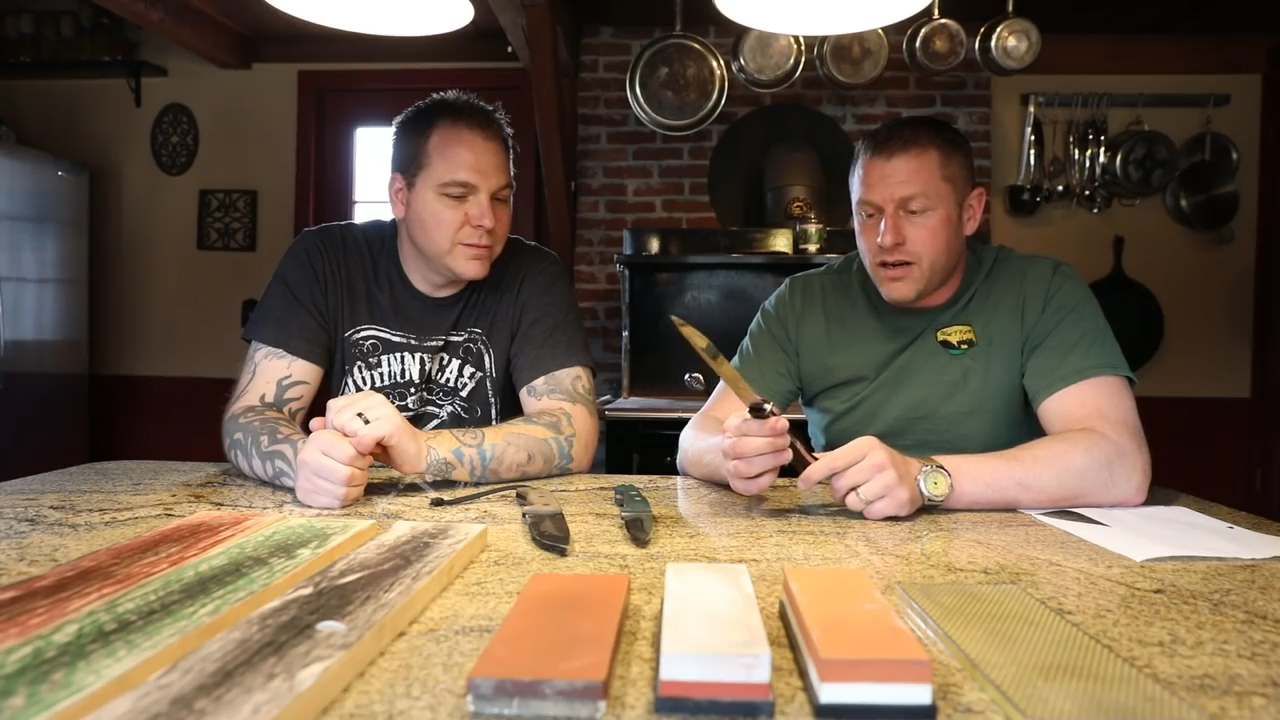knife: (653, 294, 798, 467)
